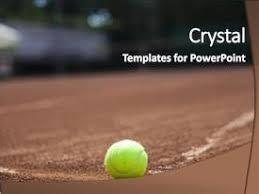tennis_ball: (103, 138, 148, 179)
